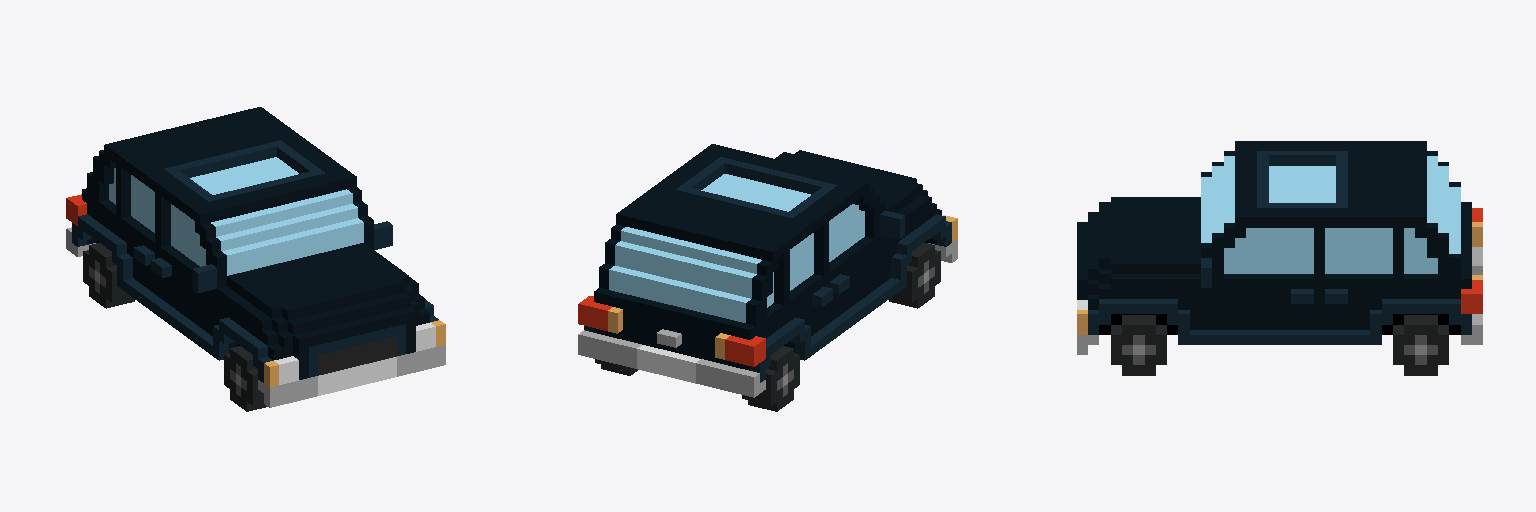
The picture shows the model from 3 angles: view 1: azimuth 30°, elevation 25°; view 2: azimuth 150°, elevation 25°; view 3: azimuth 270°, elevation 25°; orthographic projection.
Visible parts, largest first — view 1: object 1; view 2: object 1; view 3: object 1.
Boxes of the visible parts, x1,y1,x2,y2 form: object 1: [66, 107, 445, 411]; object 1: [578, 144, 957, 411]; object 1: [1077, 141, 1482, 375].
Bounding box in the file's own units: 2 × 1.5 × 3.6.
Materials: 1 (1 with a texture image).